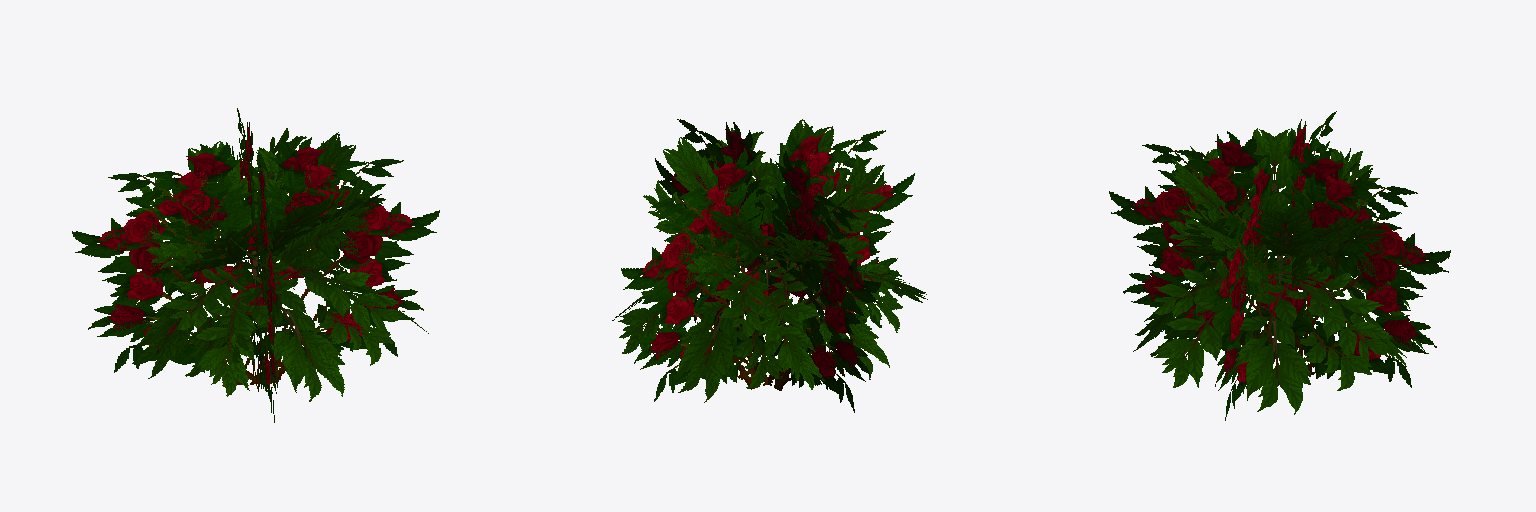
3 views of the same model, side by side, from view 1: azimuth 30°, elevation 25°; view 2: azimuth 150°, elevation 25°; view 3: azimuth 270°, elevation 25° (orthographic).
Parts seen in each view (by area): view 1: cube; view 2: cube; view 3: cube.
Boxes of the visible parts, <box> form: cube: <box>72,108,439,422</box>; cube: <box>612,119,927,412</box>; cube: <box>1109,111,1450,420</box>.
Size of the model in its own units: 2.01 by 1.65 by 2.01.
Materials: 2 (2 with a texture image).